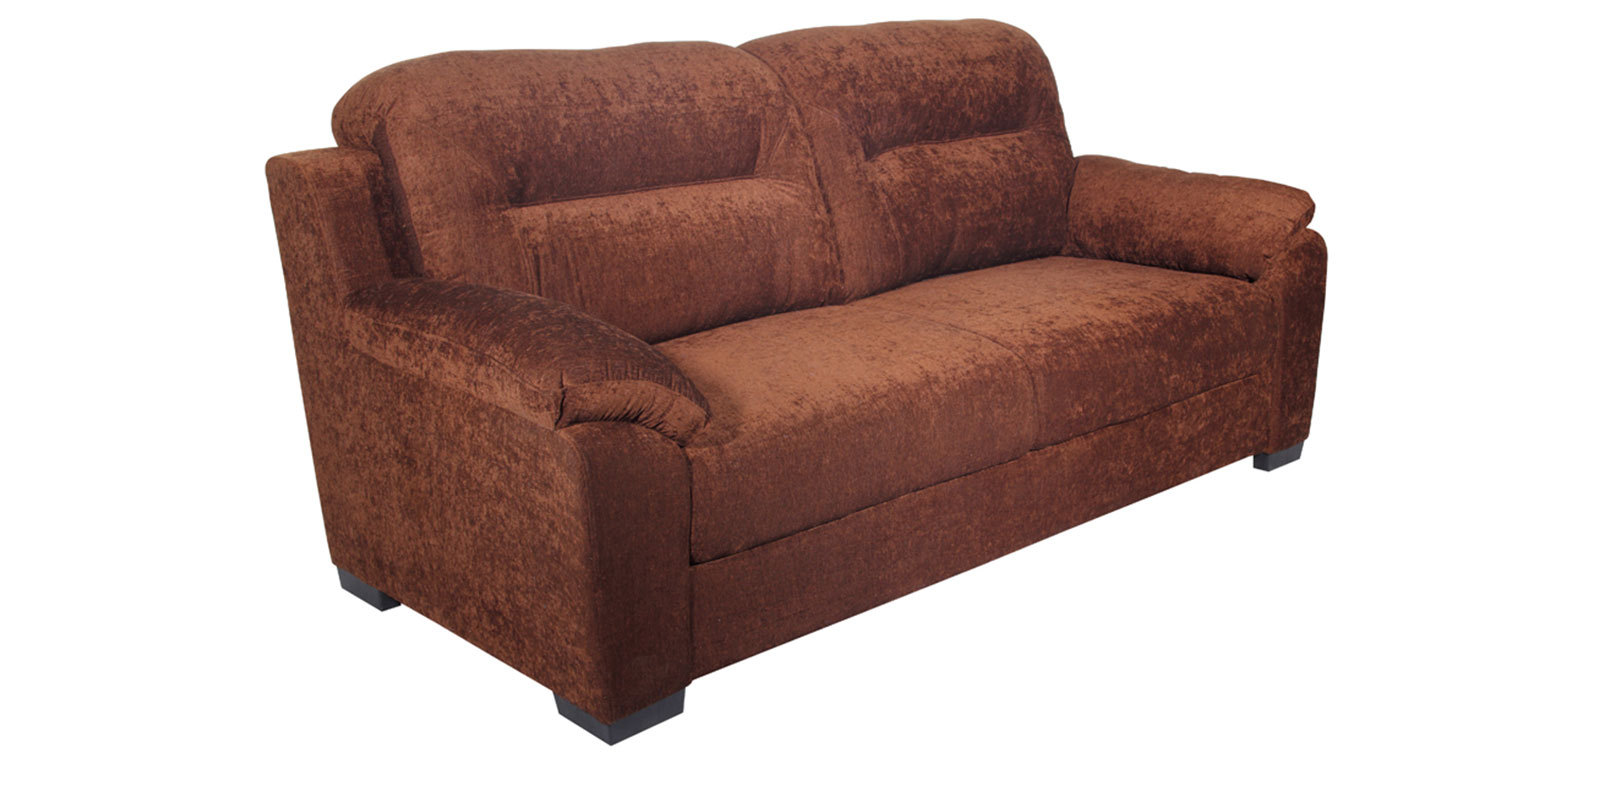Poland Three Seater Sofa in Chocolate Brown Colour by Furniture Mind: (269, 16, 1331, 746)
